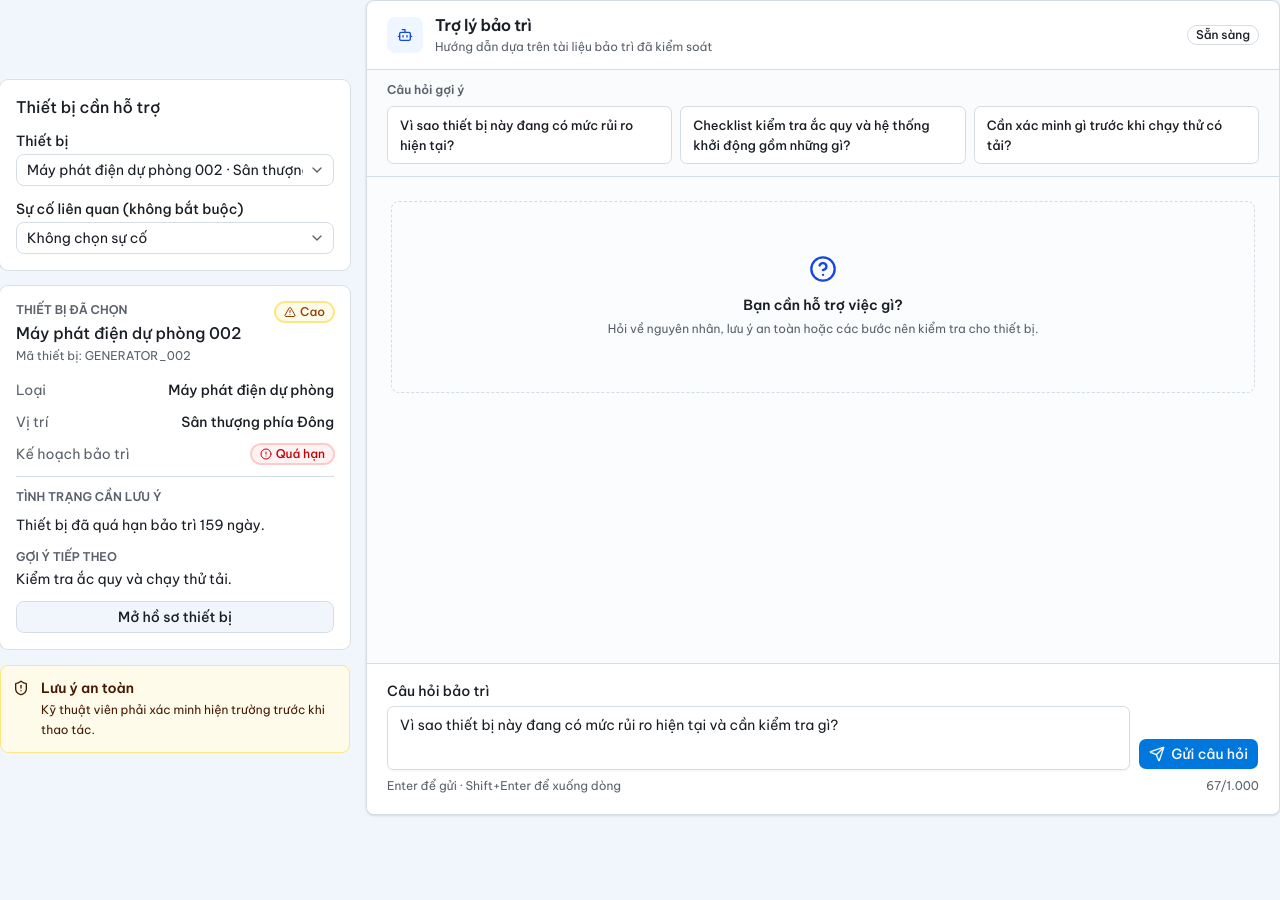
Test: live Copilot workspace › shows unsupported equipment as a safe fallback rather than a crash
Replace the text in the text box labelled "Câu hỏi bảo trì" with "Checklist cho thang máy là gì?": (759, 738) [387,706,1130,770]
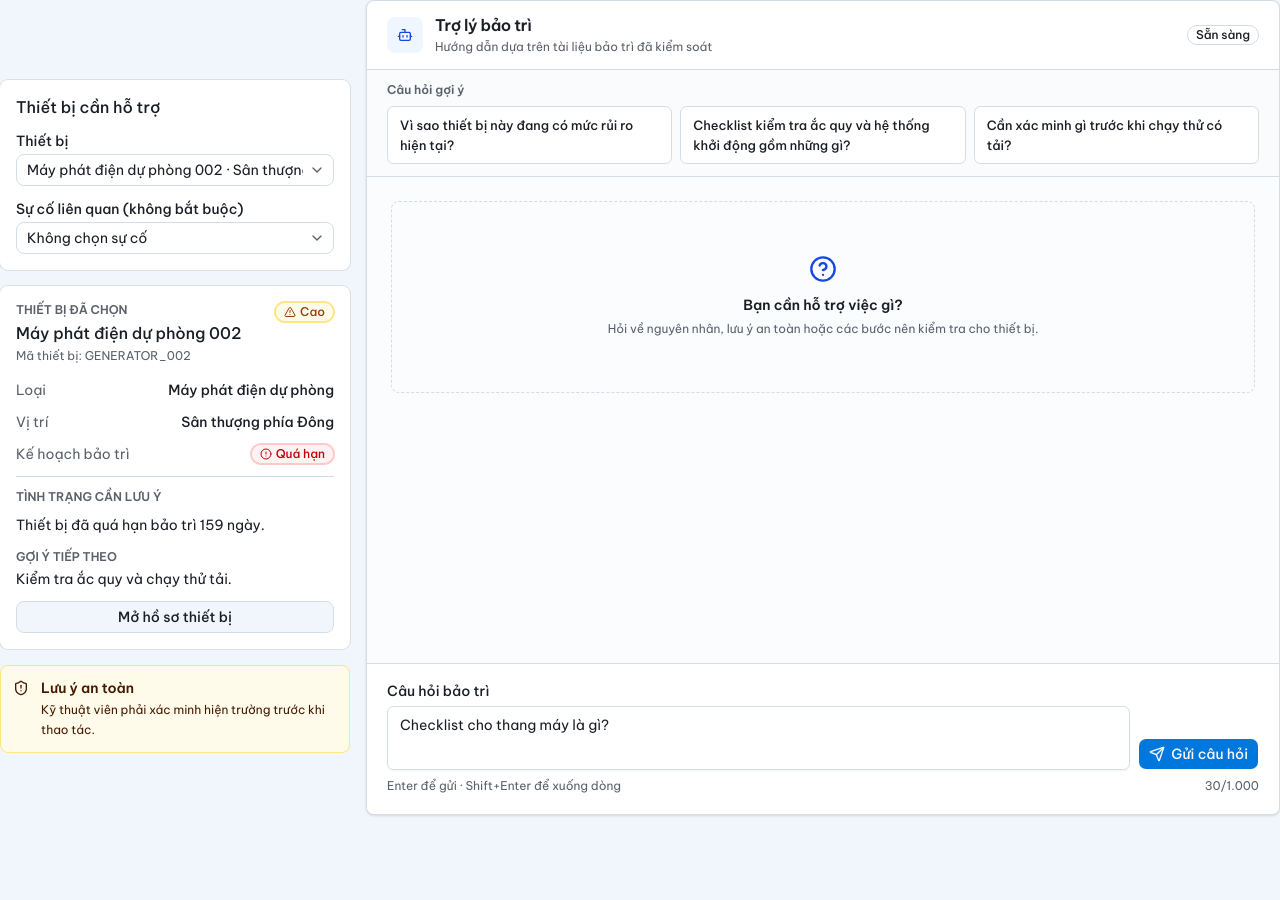
Press Enter in the text box labelled "Câu hỏi bảo trì", box [387,706,1130,770]
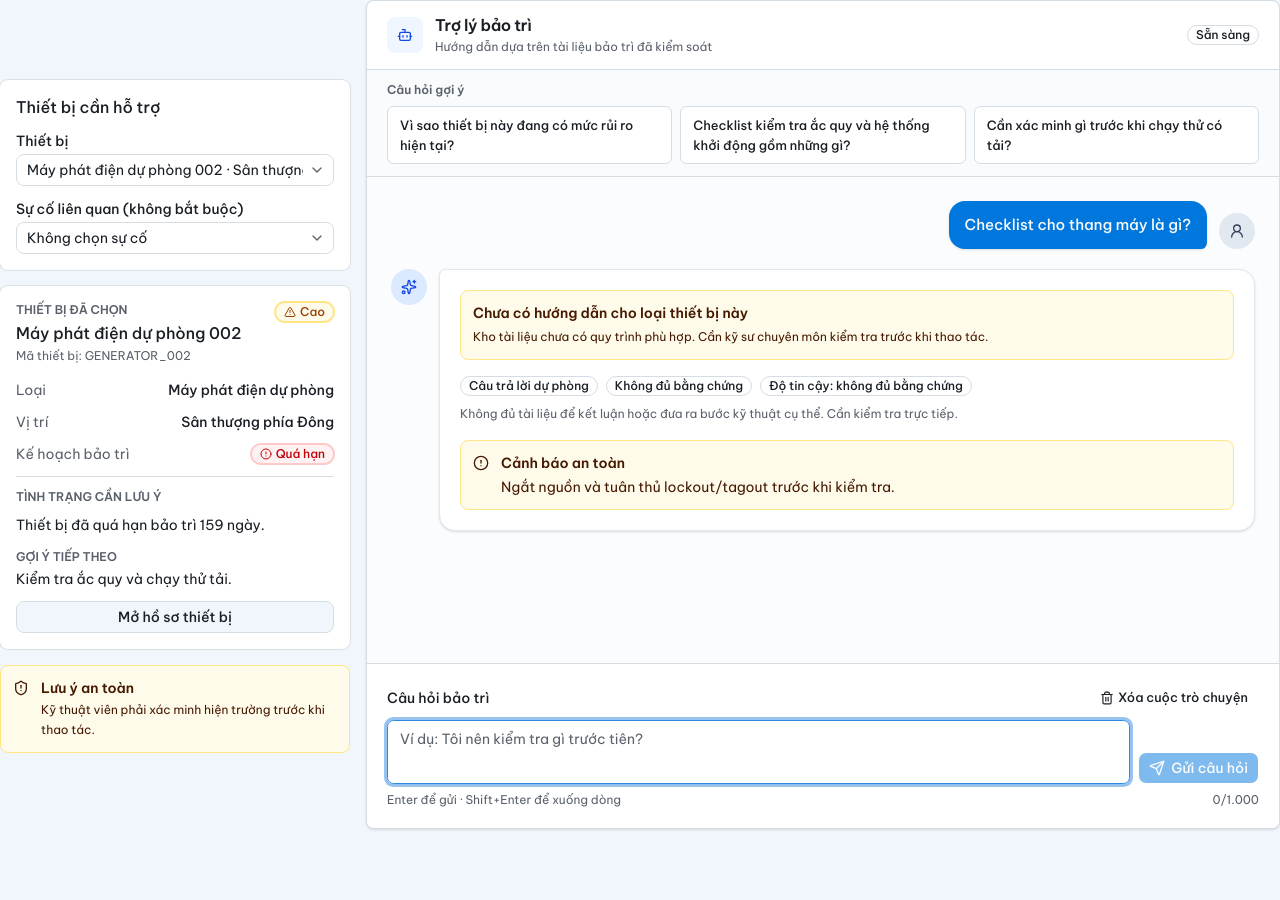
expect the text "Chưa có hướng dẫn cho loại thiết bị này" is shown: met, box [473,304,748,322]
